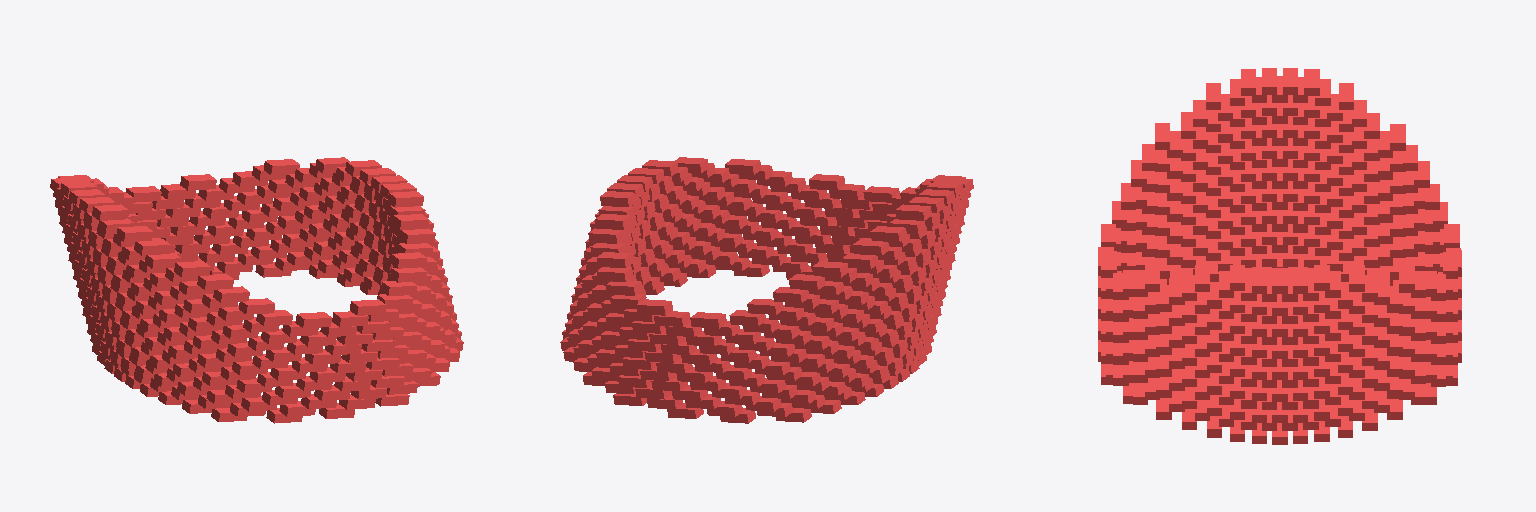
The model's file is wave-form-arrangement.obj.
3 renders of one model, left to right at view 1: azimuth 30°, elevation 25°; view 2: azimuth 150°, elevation 25°; view 3: azimuth 270°, elevation 25°, orthographic.
Bounding box in the file's own units: 418 × 226 × 365.